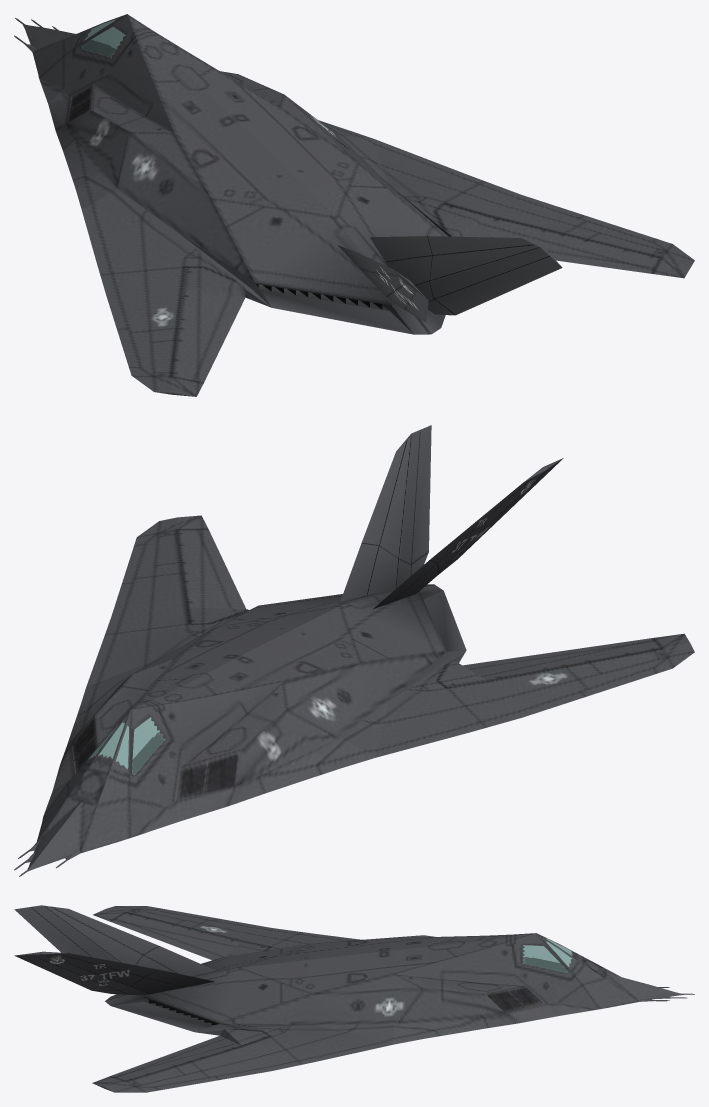
3 views of the same model, one above another, from view 1: azimuth 30°, elevation 25°; view 2: azimuth 150°, elevation 25°; view 3: azimuth 270°, elevation 25° (orthographic). The views are drawn at different scales.
Visible parts, largest first — view 1: body|Line__01-FACES, body|Box67-FACES, body|Box01-FACES, body|Line__01-FACES_0; view 2: body|Line__01-FACES, body|Box67-FACES, body|Box01-FACES, body|Line__01-FACES_0; view 3: body|Line__01-FACES, body|Box01-FACES, body|Box67-FACES, body|Line__01-FACES_0, body|Object09-FACES_0.
Part boxes in pixels (box(x1,y1,x2,y2)): body|Line__01-FACES: box(23, 14, 694, 396); body|Box67-FACES: box(370, 236, 562, 315); body|Box01-FACES: box(337, 245, 428, 322); body|Line__01-FACES_0: box(81, 19, 125, 58); body|Line__01-FACES: box(27, 515, 694, 871); body|Box67-FACES: box(340, 425, 431, 601); body|Box01-FACES: box(373, 458, 563, 608); body|Line__01-FACES_0: box(88, 717, 165, 774); body|Line__01-FACES: box(92, 906, 683, 1092); body|Box01-FACES: box(14, 905, 215, 976); body|Box67-FACES: box(14, 951, 214, 995); body|Line__01-FACES_0: box(522, 938, 572, 972); body|Object09-FACES_0: box(523, 956, 567, 972).
Size of the model in its own units: 13.04 by 2.49 by 20.09.
Materials: 32 (13 with a texture image).
